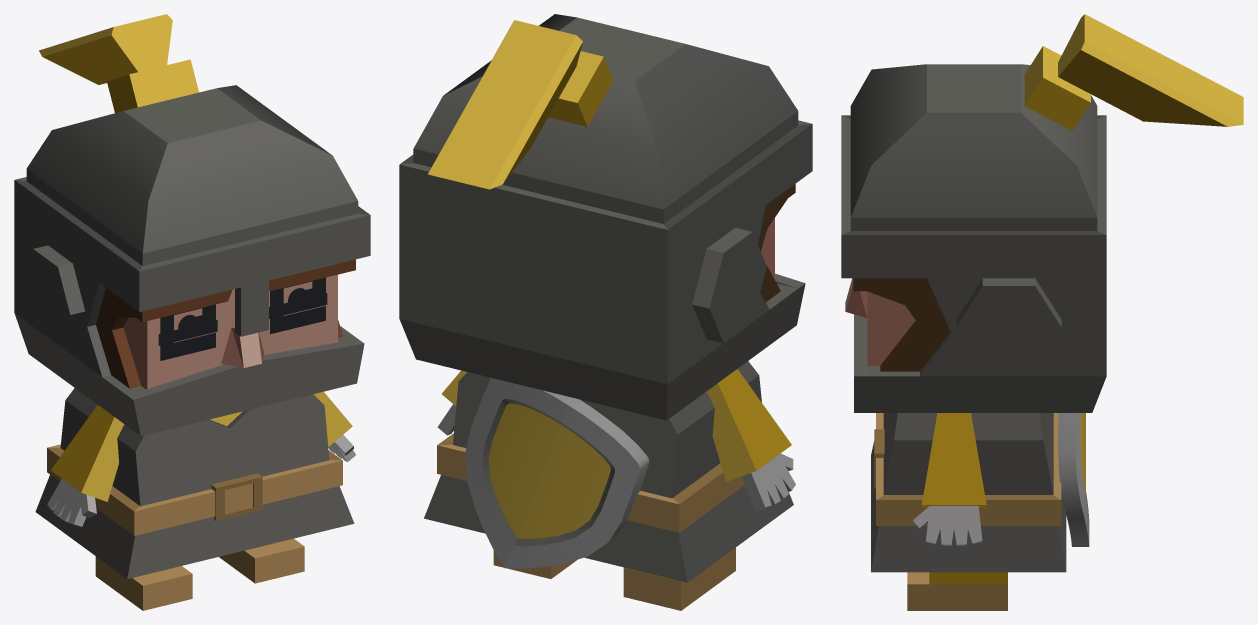
3 renders of one model, left to right at view 1: azimuth 30°, elevation 25°; view 2: azimuth 150°, elevation 25°; view 3: azimuth 270°, elevation 25°, orthographic. The views are drawn at different scales.
Visible parts, largest first — view 1: Ch_239_Head, Ch_239, Ch_239_Arm_L, Ch_239_Leg_L, Ch_239_Leg_R, Ch_239_Eye_03_L, Ch_239_Eye_03_R, Ch_239_Arm_R, Ch_239_Eye_02, Ch_239_Eye_01; view 2: Ch_239_Head, Ch_239, Ch_239_Arm_L, Ch_239_Leg_L, Ch_239_Arm_R, Ch_239_Leg_R; view 3: Ch_239_Head, Ch_239, Ch_239_Arm_R, Ch_239_Leg_R.
Boxes of the visible parts, x1,y1,x2,y2 form: Ch_239_Head: [14, 14, 370, 435]; Ch_239: [35, 388, 354, 578]; Ch_239_Arm_L: [47, 405, 124, 526]; Ch_239_Leg_L: [95, 556, 192, 610]; Ch_239_Leg_R: [219, 538, 304, 583]; Ch_239_Eye_03_L: [160, 304, 215, 360]; Ch_239_Eye_03_R: [270, 277, 325, 334]; Ch_239_Arm_R: [313, 391, 355, 461]; Ch_239_Eye_02: [158, 293, 327, 345]; Ch_239_Eye_01: [178, 288, 307, 336]; Ch_239_Head: [399, 14, 812, 420]; Ch_239: [424, 361, 793, 582]; Ch_239_Arm_L: [706, 369, 795, 510]; Ch_239_Leg_L: [623, 547, 735, 610]; Ch_239_Arm_R: [437, 370, 467, 435]; Ch_239_Leg_R: [493, 550, 577, 578]; Ch_239_Head: [841, 14, 1243, 412]; Ch_239: [871, 413, 1089, 572]; Ch_239_Arm_R: [913, 413, 986, 545]; Ch_239_Leg_R: [907, 572, 1007, 610].
Size of the model in its own units: 7.16 by 12.2 by 8.22.
